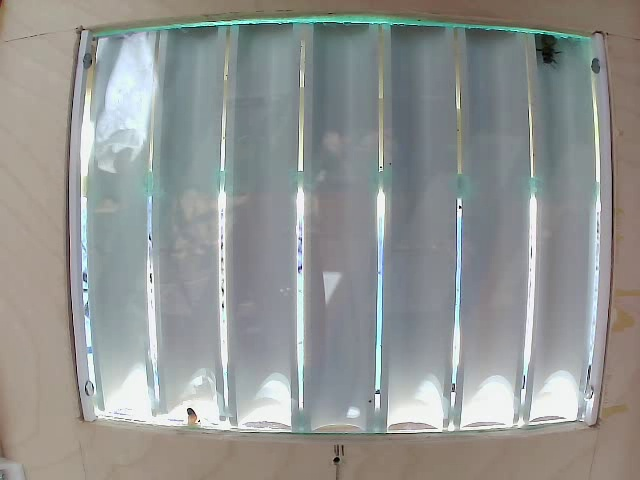bee: (526, 32, 580, 78)
